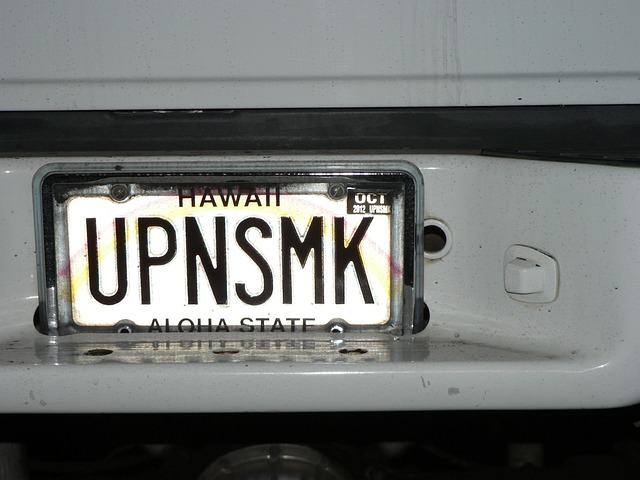number_plate: (43, 167, 396, 332)
